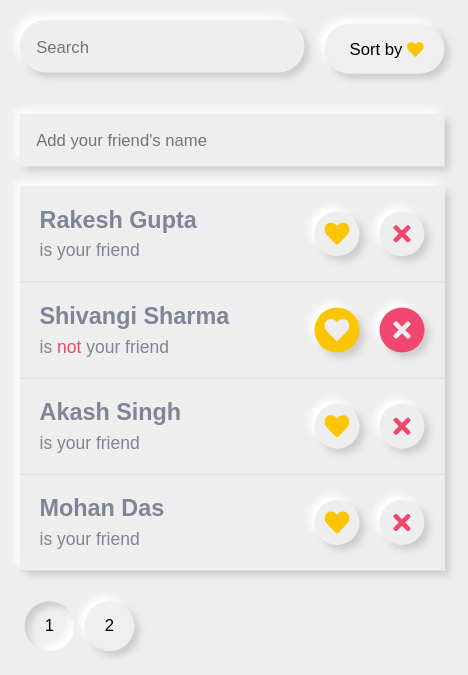
<FriendsList /> › adding new friend works
Check: the heading "Rakesh Gupta" is shown, box [40,206,197,234]
Type "Test Friend" into the field with test id "add-friend-input".
click(232, 140); type("Test Friend")  # box [20,114,444,166]
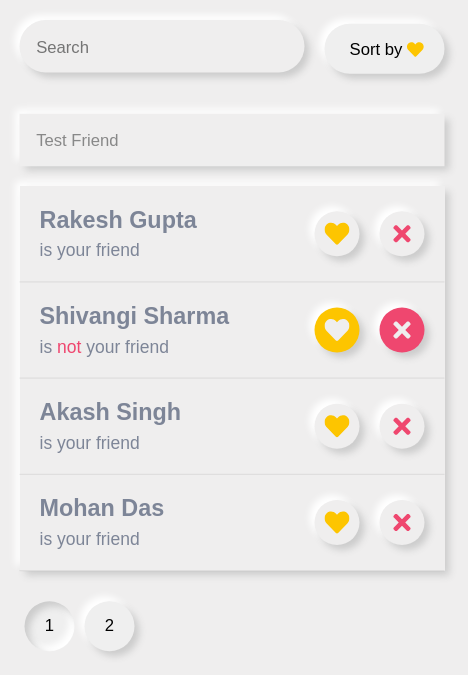
Press Enter in the field with test id "add-friend-input", box [20,114,444,166]
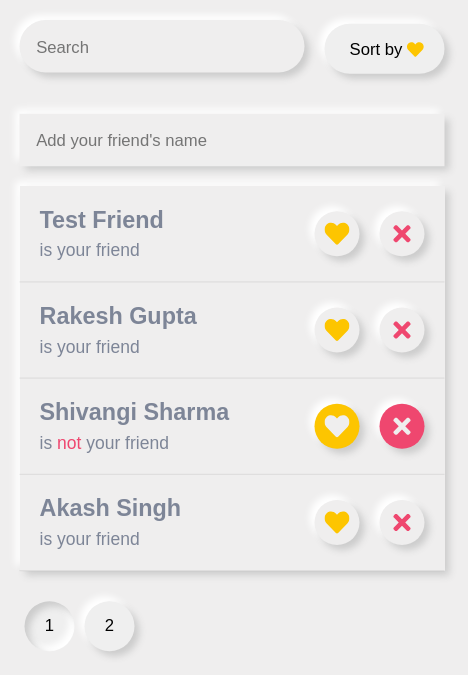
Check: the heading "Rakesh Gupta" is shown, box [40,302,197,330]
Check: the heading "Test Friend" is shown, box [40,206,164,234]
